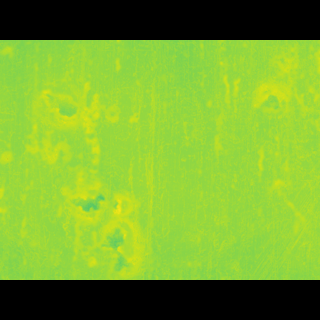Loch: (85, 203, 145, 247), (31, 101, 85, 131), (62, 174, 107, 202), (253, 104, 292, 128), (107, 184, 136, 201), (272, 77, 294, 96)
